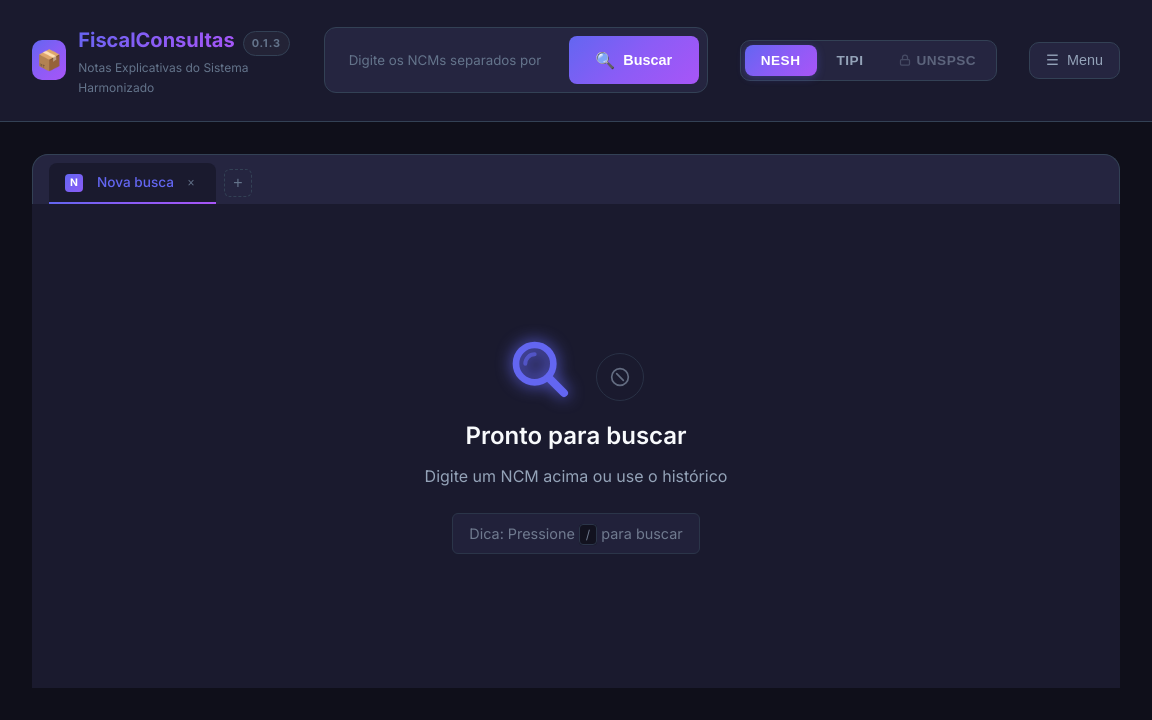
Test: Tabs persistence in App › keeps tab panes mounted when switching tabs
The image size is (1152, 720).
Click the button titled "Nova aba": {"x": 238, "y": 183} [224,169,252,197]
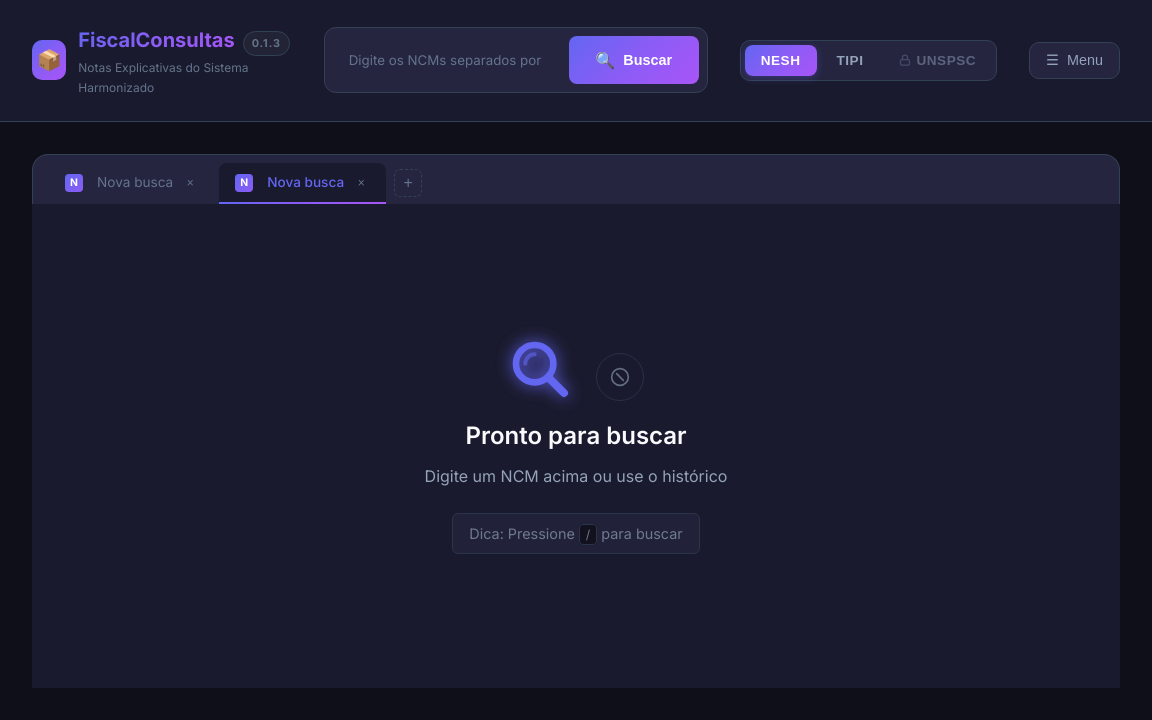
Click the 1st element showing "N Nova busca ×": {"x": 132, "y": 183} [65,174,199,192]
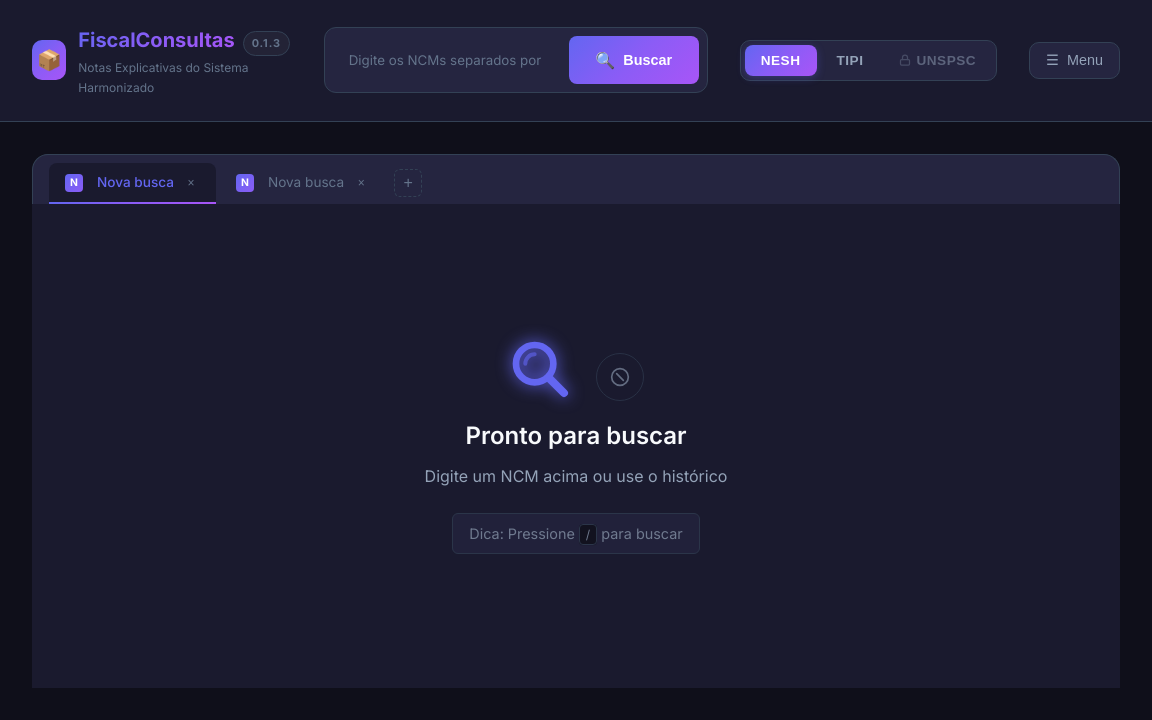
Expected: the number of panels is 1
